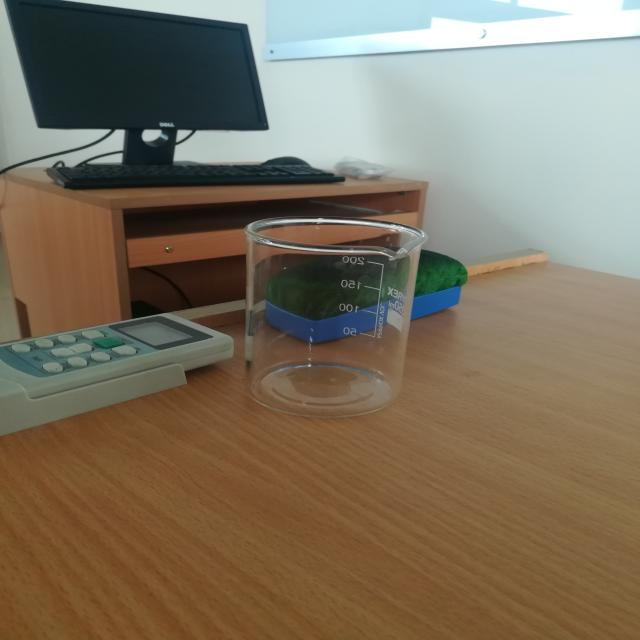Beaker: (222, 170, 459, 440)
